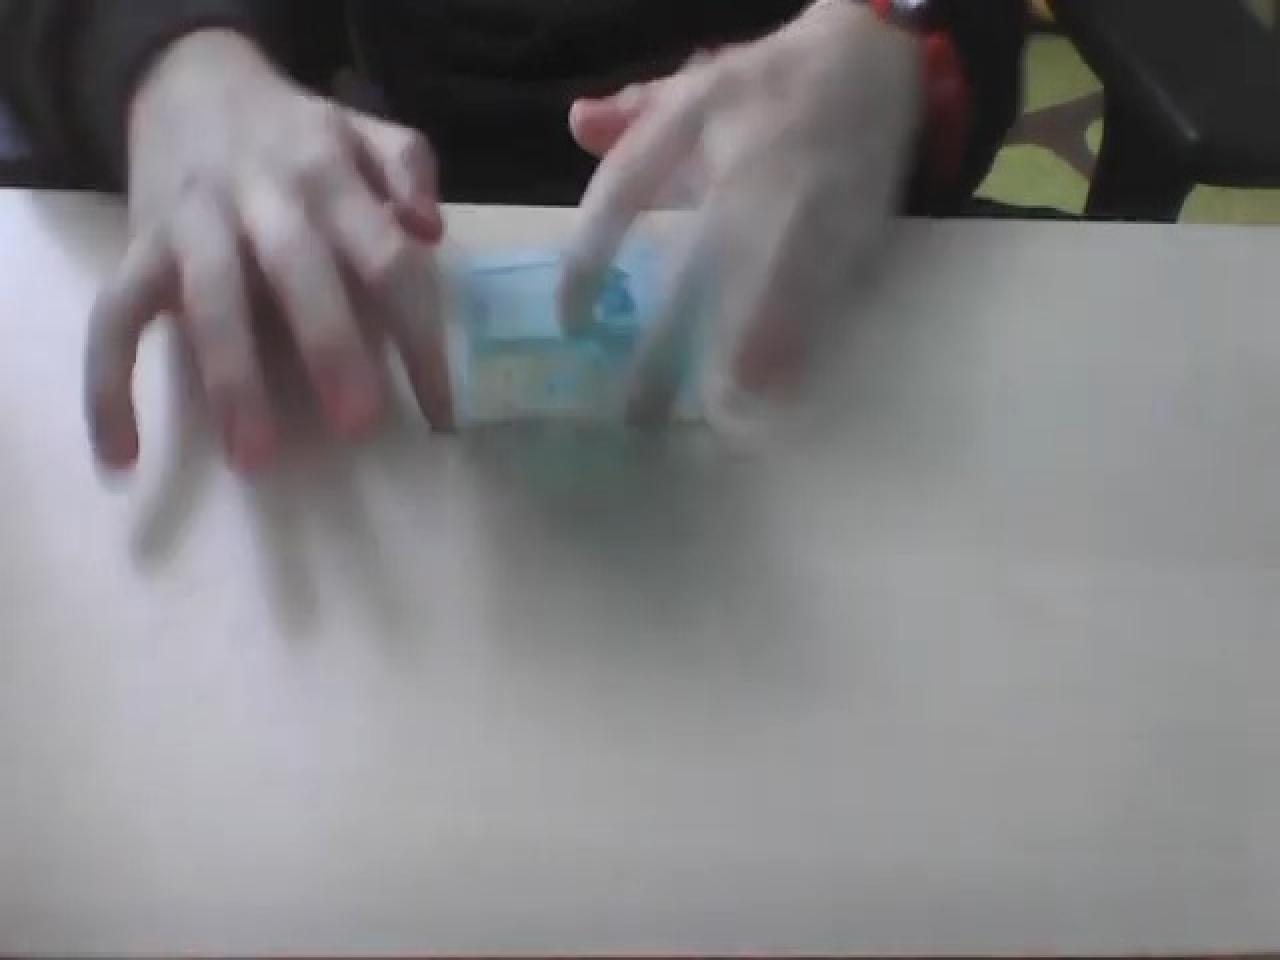100leva: (434, 243, 660, 430)
